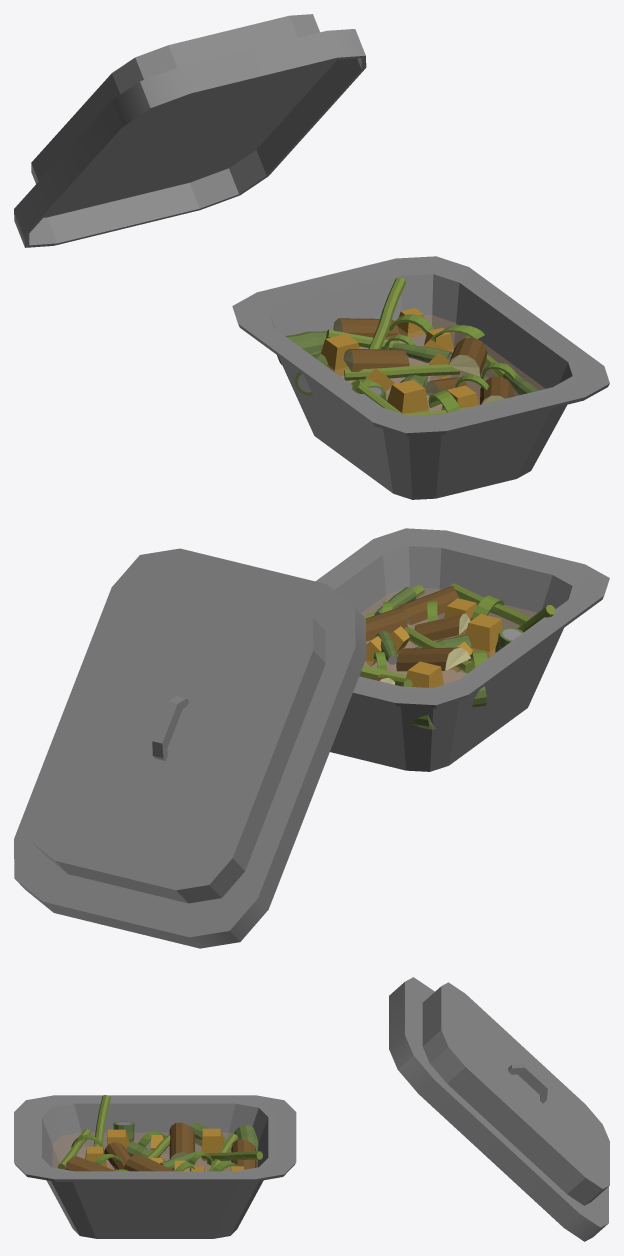
Rendered from pakbet.fbx.
The picture shows the model from 3 angles, top to bottom: view 1: azimuth 30°, elevation 25°; view 2: azimuth 150°, elevation 25°; view 3: azimuth 270°, elevation 25°; orthographic projection. The views are drawn at different scales.
Visible parts, largest first — view 1: polySurface2, pCube4; view 2: pCube4, polySurface2; view 3: polySurface2, pCube4.
Part boxes in pixels (left/top/right/bottom): polySurface2: left=232, top=256, right=609, bottom=499; pCube4: left=14, top=14, right=366, bottom=247; pCube4: left=14, top=548, right=366, bottom=948; polySurface2: left=315, top=528, right=609, bottom=771; polySurface2: left=14, top=1095, right=296, bottom=1238; pCube4: left=389, top=977, right=609, bottom=1241.
Bounding box in the file's own units: 3.84 × 4.17 × 10.92.
